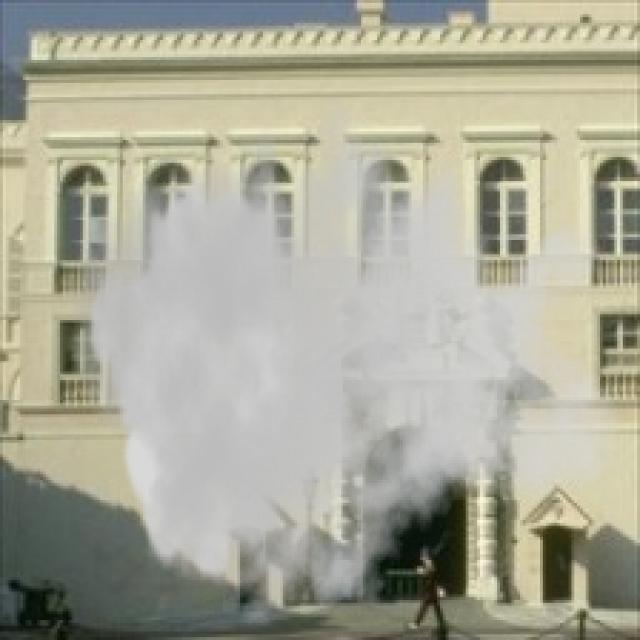Smoke: (68, 72, 623, 638)
